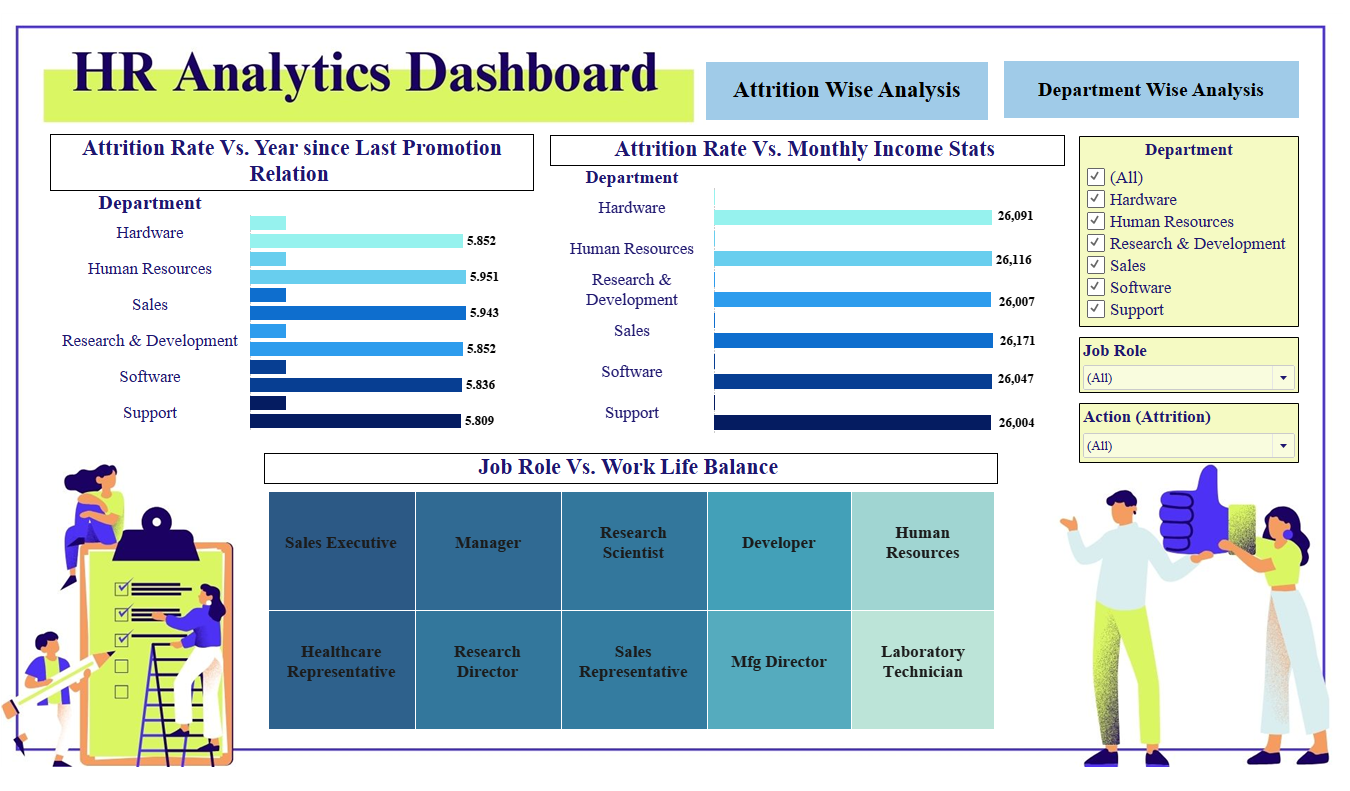

This screenshot's page, from the dashboard's own definition file:
{"tool":"tableau","page":{"name":"D2","canvas":[1366,850],"ordinal":1},"visuals":[{"type":"image","param":"Image/HR 1.jpg","box":[8,8,1350,834]},{"type":"dashboard-object","box":[1015,96,295,57]},{"type":"dashboard-object","box":[717,97,282,58]},{"type":"legend","title":"KPI 3","param":"[federated.0opds991c7tnah18v86yy0nvav68].[avg:Calculation_503558799209861120:qk]","box":[537.9,148.3,119.5,34]},{"type":"worksheet","title":"KPI 6","mark":"Automatic","rows":["Department"],"box":[61,169,484,296]},{"type":"worksheet","title":"KPI 3","mark":"Automatic","rows":["Department"],"box":[561,170,515,298]},{"type":"filter","title":"KPI 3","param":"[federated.0opds991c7tnah18v86yy0nvav68].[none:Department:nk]","box":[1090,171,220,191]},{"type":"filter","title":"KPI 5","param":"[federated.0opds991c7tnah18v86yy0nvav68].[none:JobRole:nk]","box":[1090,372,220,56]},{"type":"filter","title":"KPI 5","param":"[federated.0opds991c7tnah18v86yy0nvav68].[Action (Attrition)]","box":[1090,438,220,60]},{"type":"worksheet","title":"KPI 5","mark":"Automatic","box":[275,488,734,281]}]}

Visuals, with their boxes on the page's 1366x850 design canvas (x1, y1, x2, y2). These are canvas units, not pixel positions in the 1350x791 screenshot, which may show the page scaled, cropped or inside an application window:
image: (8, 8, 1358, 842)
dashboard-object: (1015, 96, 1310, 153)
dashboard-object: (717, 97, 999, 155)
"KPI 3" legend: (538, 148, 657, 182)
"KPI 6" worksheet: (61, 169, 545, 465)
"KPI 3" worksheet: (561, 170, 1076, 468)
"KPI 3" filter: (1090, 171, 1310, 362)
"KPI 5" filter: (1090, 372, 1310, 428)
"KPI 5" filter: (1090, 438, 1310, 498)
"KPI 5" worksheet: (275, 488, 1009, 769)
